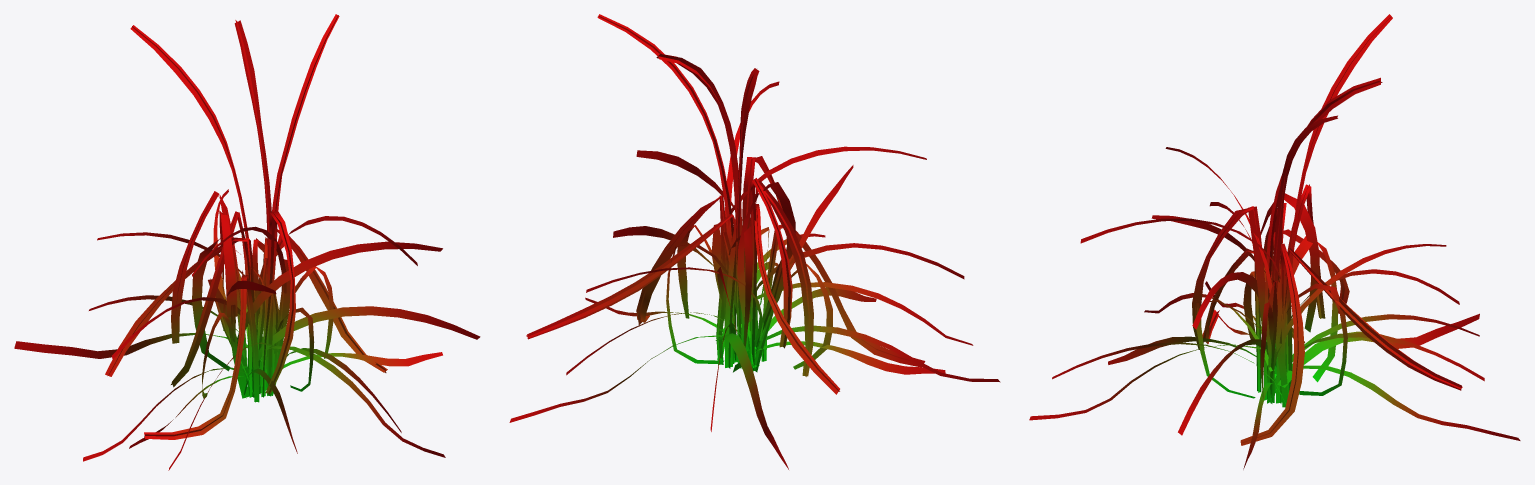
Rendered from SM_Marram_Grass_01.FBX.
3 views of the same model, side by side, from view 1: azimuth 30°, elevation 25°; view 2: azimuth 150°, elevation 25°; view 3: azimuth 270°, elevation 25° (orthographic). The views are drawn at different scales.
Visible parts, largest first — view 1: SM_Marram_Grass_01; view 2: SM_Marram_Grass_01; view 3: SM_Marram_Grass_01.
Boxes of the visible parts, x1,y1,x2,y2 form: SM_Marram_Grass_01: (14,14,480,470); SM_Marram_Grass_01: (509,14,1000,469); SM_Marram_Grass_01: (1029,14,1520,469).
Bounding box in the file's own units: 90.87 × 99.37 × 78.25.
